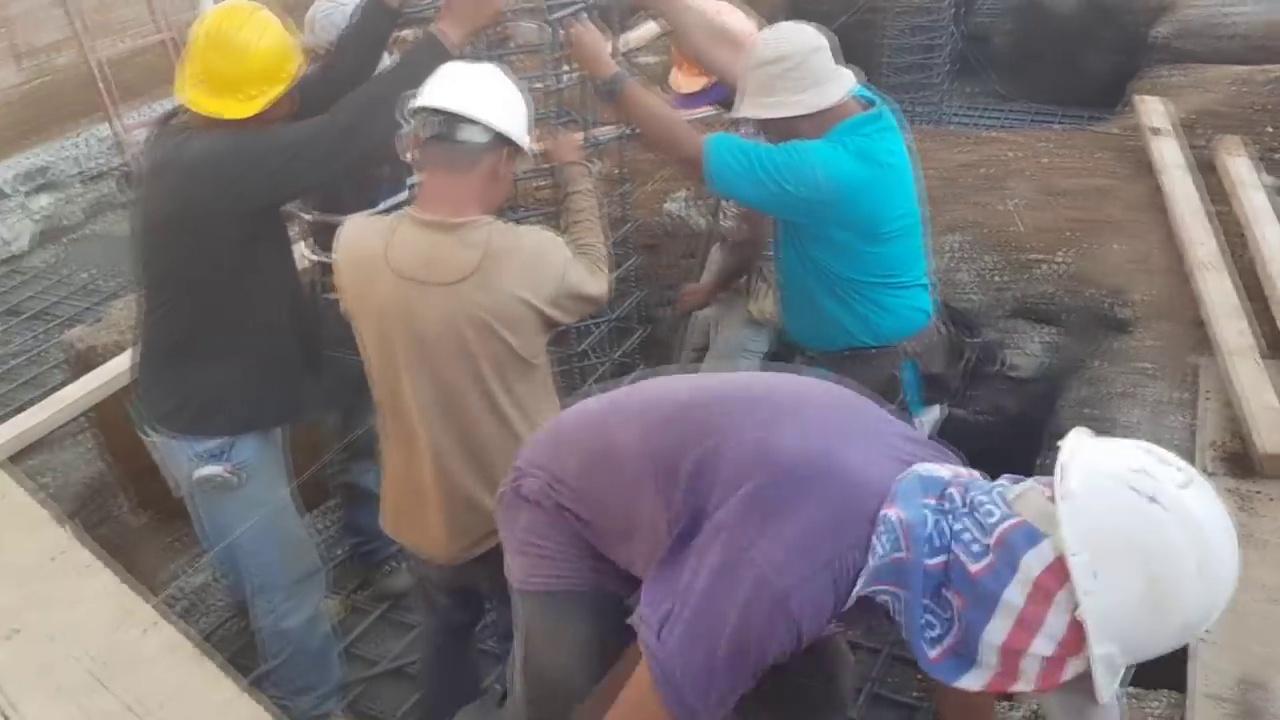helmet: (1048, 397, 1233, 677), (400, 53, 538, 163), (171, 16, 308, 119)
helmet-off: (732, 22, 876, 143)
helmet-on: (912, 396, 1247, 705), (393, 54, 542, 238), (161, 1, 314, 137), (388, 6, 430, 54)
person: (489, 373, 1259, 720), (127, 0, 429, 713), (318, 49, 609, 717), (569, 0, 938, 402), (651, 33, 793, 387)
